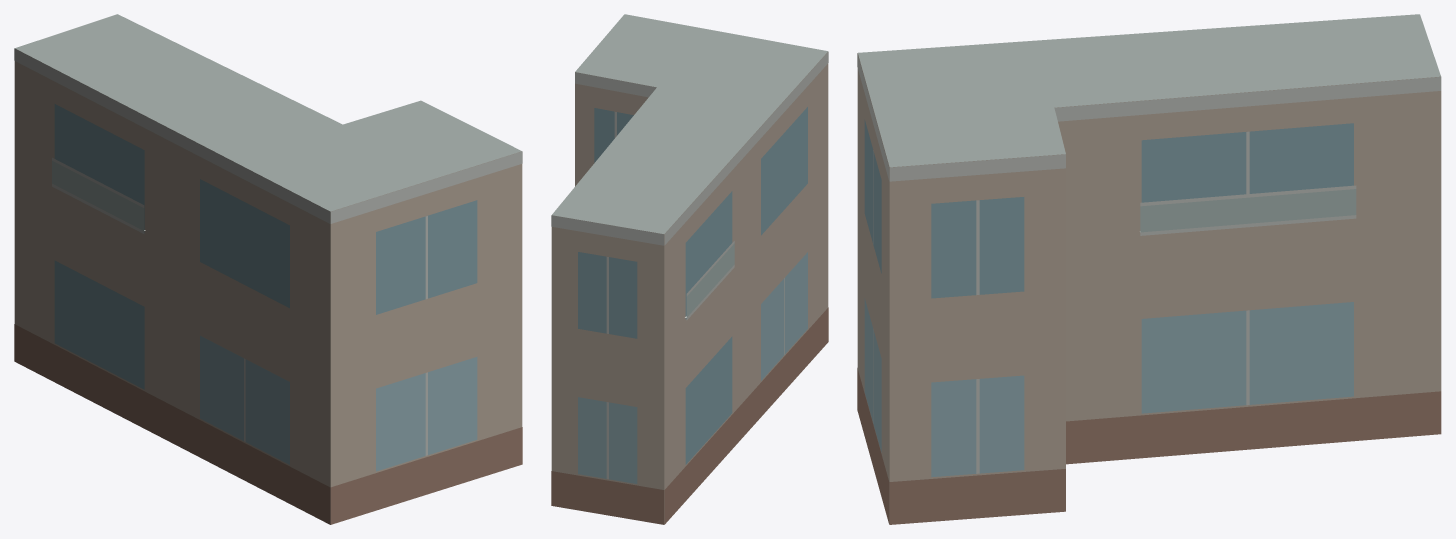
Rendered from survey-upis-32462153.glb.
3 views of the same model, side by side, from view 1: azimuth 30°, elevation 25°; view 2: azimuth 150°, elevation 25°; view 3: azimuth 270°, elevation 25° (orthographic). The views are drawn at different scales.
Parts seen in each view (by area): view 1: survey-upis-32462153.tmp; view 2: survey-upis-32462153.tmp; view 3: survey-upis-32462153.tmp.
Boxes of the visible parts, x1=… form: survey-upis-32462153.tmp: x1=14, y1=14, x2=522, y2=524; survey-upis-32462153.tmp: x1=551, y1=14, x2=828, y2=524; survey-upis-32462153.tmp: x1=857, y1=14, x2=1441, y2=524.
Size of the model in its own units: 5.62 by 6.1 by 9.04.
